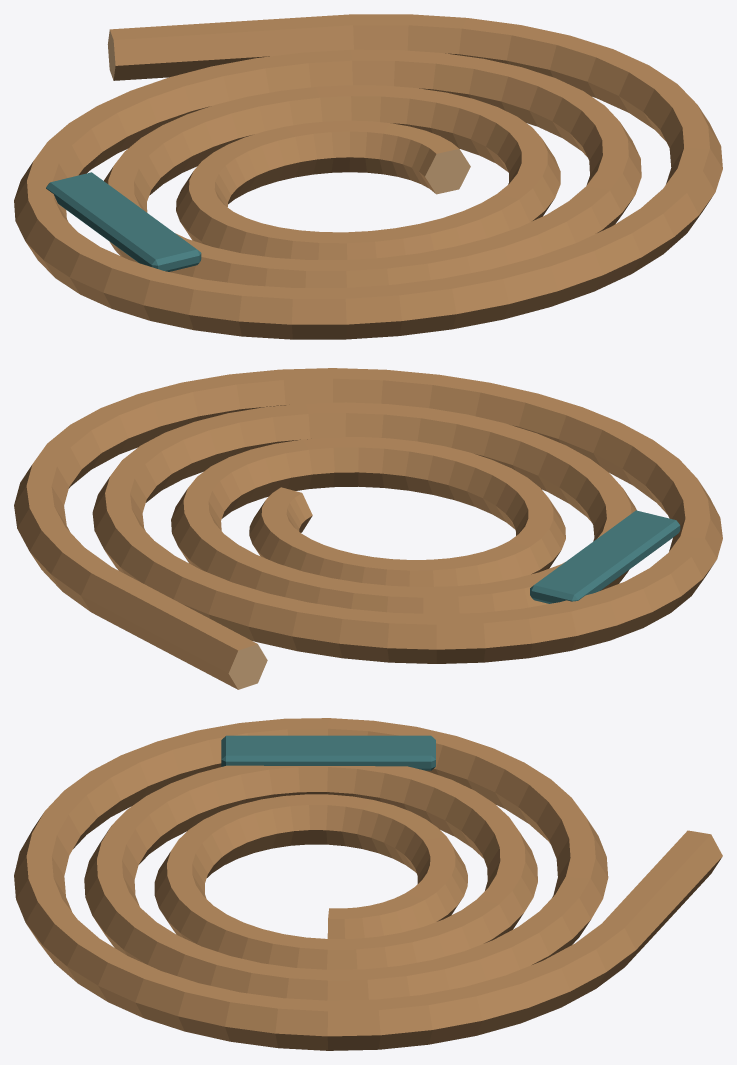
3 views of the same model, one above another, from view 1: azimuth 30°, elevation 25°; view 2: azimuth 150°, elevation 25°; view 3: azimuth 270°, elevation 25° (orthographic). The views are drawn at different scales.
Parts seen in each view (by area): view 1: harbor-rope-coil-01; view 2: harbor-rope-coil-01; view 3: harbor-rope-coil-01.
Part boxes in pixels (bbox=[...]): harbor-rope-coil-01: bbox=[14, 14, 722, 339]; harbor-rope-coil-01: bbox=[14, 368, 722, 689]; harbor-rope-coil-01: bbox=[14, 718, 722, 1050].
Bounding box in the file's own units: 0.7752 × 0.0634 × 0.7595.
